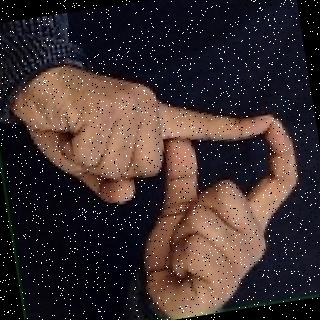D: (6, 32, 315, 320)
